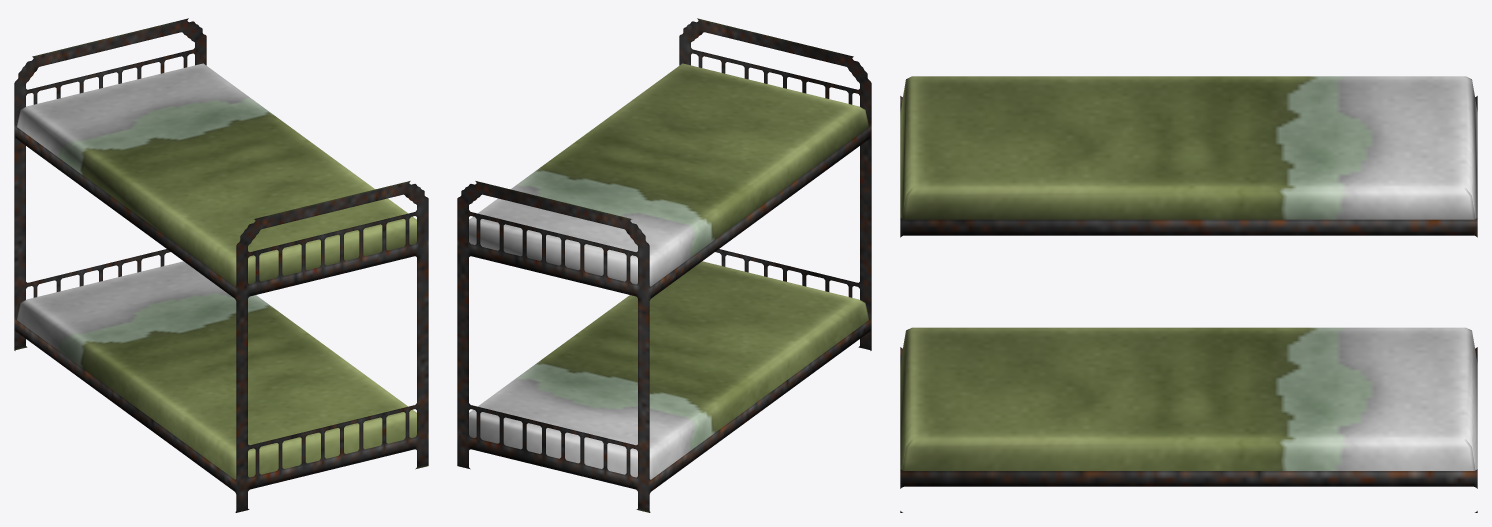
Rendered from bunkbed.obj.
The picture shows the model from 3 angles, left to right: view 1: azimuth 30°, elevation 25°; view 2: azimuth 150°, elevation 25°; view 3: azimuth 270°, elevation 25°; orthographic projection. The views are drawn at different scales.
Visible parts, largest first — view 1: Cube.001, Cube; view 2: Cube.001, Cube; view 3: Cube.001, Cube.
Boxes of the visible parts, x1=… form: Cube.001: x1=16, y1=63, x2=416, y2=479; Cube: x1=14, y1=18, x2=428, y2=512; Cube.001: x1=469, y1=63, x2=869, y2=479; Cube: x1=457, y1=18, x2=871, y2=512; Cube.001: x1=900, y1=76, x2=1477, y2=470; Cube: x1=900, y1=96, x2=1477, y2=512.
Size of the model in its own units: 50 by 72 by 100.
